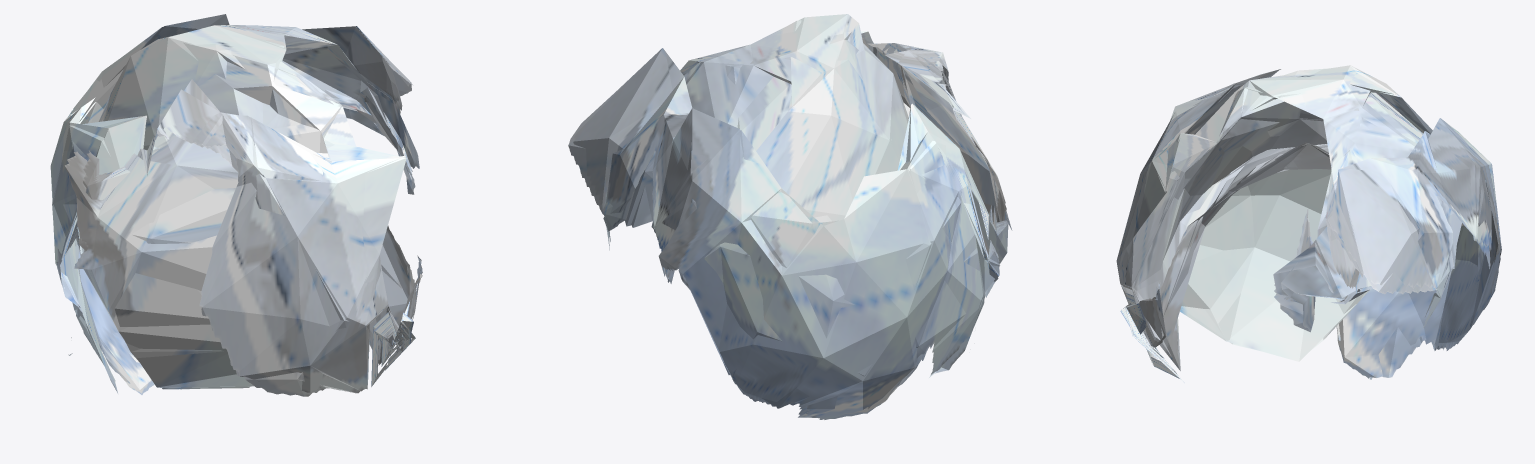
Rendered from paper.fbx.
3 views of the same model, side by side, from view 1: azimuth 30°, elevation 25°; view 2: azimuth 150°, elevation 25°; view 3: azimuth 270°, elevation 25° (orthographic). The views are drawn at different scales.
Parts seen in each view (by area): view 1: Plane; view 2: Plane; view 3: Plane.
Part boxes in pixels (x1,y1,x2,y2): Plane: (50, 14, 422, 396); Plane: (568, 14, 1012, 419); Plane: (1116, 65, 1501, 382).
Size of the model in its own units: 44.26 by 34.72 by 40.67.
